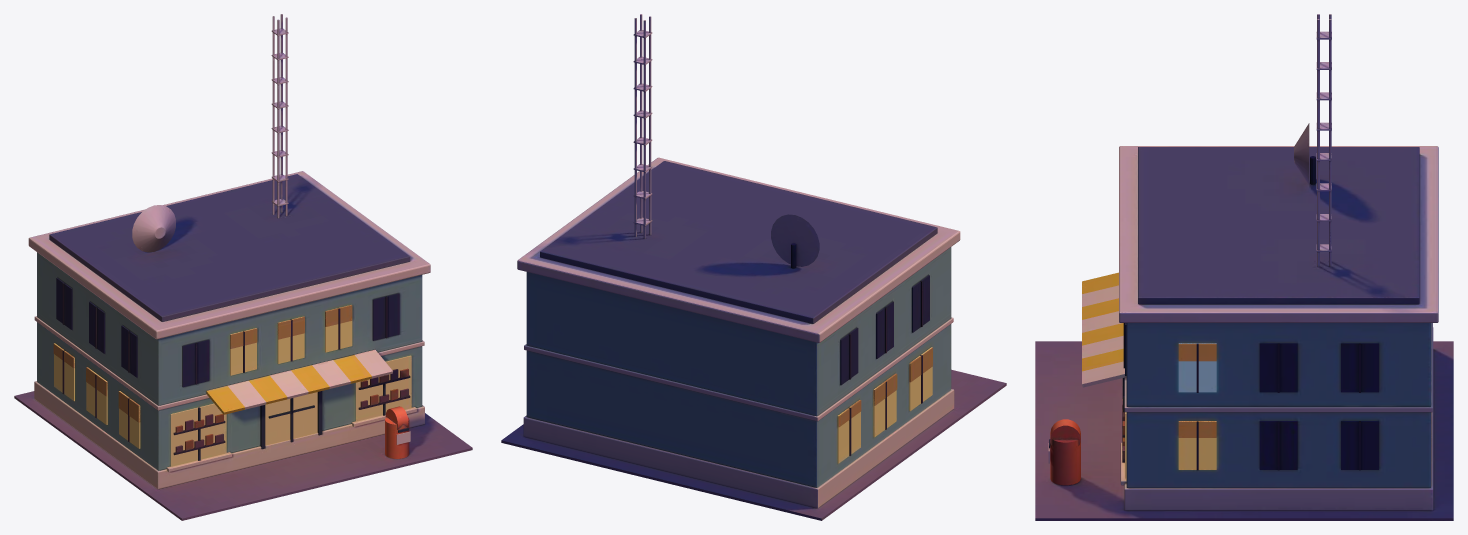
The model's file is post.glb.
3 renders of one model, left to right at view 1: azimuth 30°, elevation 25°; view 2: azimuth 150°, elevation 25°; view 3: azimuth 270°, elevation 25°, orthographic. The views are drawn at different scales.
Visible parts, largest first — view 1: post; view 2: post; view 3: post.
Part boxes in pixels (x1,y1,x2,y2): post: (14,14,472,520); post: (501,14,1006,520); post: (1035,14,1453,520).
Size of the model in its own units: 5.5 by 6.63 by 5.5.
Materials: 1 (1 with a texture image).
